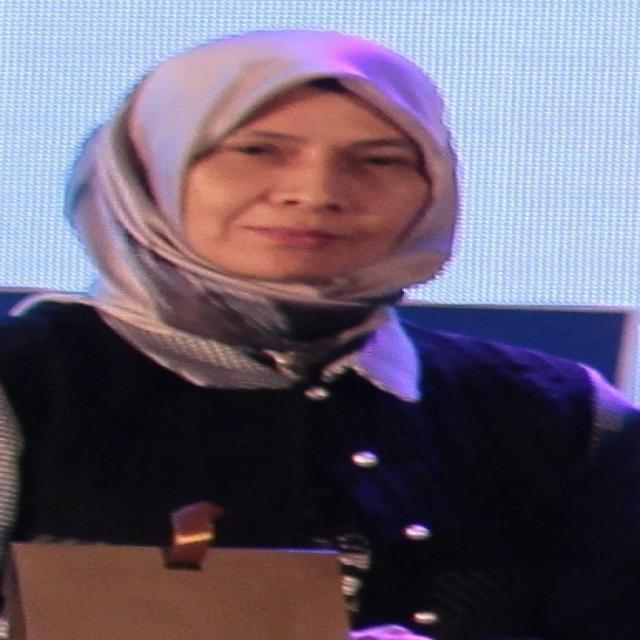head: (85, 27, 479, 305)
